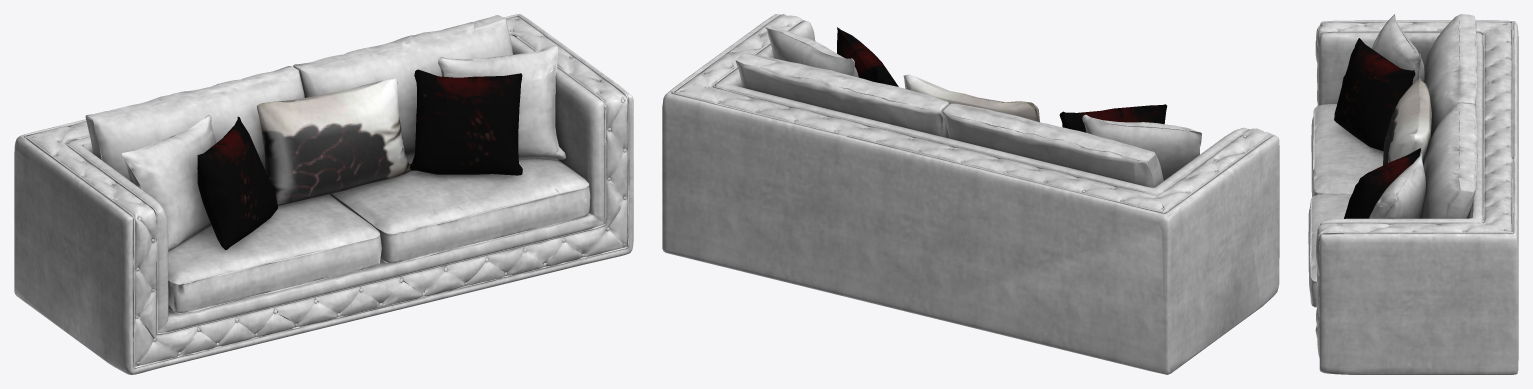
The model's file is raw_model.obj.
3 views of the same model, side by side, from view 1: azimuth 30°, elevation 25°; view 2: azimuth 150°, elevation 25°; view 3: azimuth 270°, elevation 25° (orthographic). The views are drawn at different scales.
Visible parts, largest first — view 1: solid_001, solid_003, solid_002; view 2: solid_001, solid_003, solid_002; view 3: solid_001, solid_003, solid_002.
Boxes of the visible parts, box(x1,y1,x2,y2) form: solid_001: box(14, 14, 633, 374); solid_003: box(197, 69, 522, 250); solid_002: box(257, 78, 410, 205); solid_001: box(662, 14, 1279, 374); solid_003: box(837, 27, 1167, 132); solid_002: box(903, 74, 1039, 122); solid_001: box(1308, 14, 1518, 374); solid_003: box(1334, 38, 1420, 218); solid_002: box(1383, 77, 1431, 165).
Bounding box in the file's own units: 2.2 × 0.7795 × 0.8968.
1 material, 1 textured.
